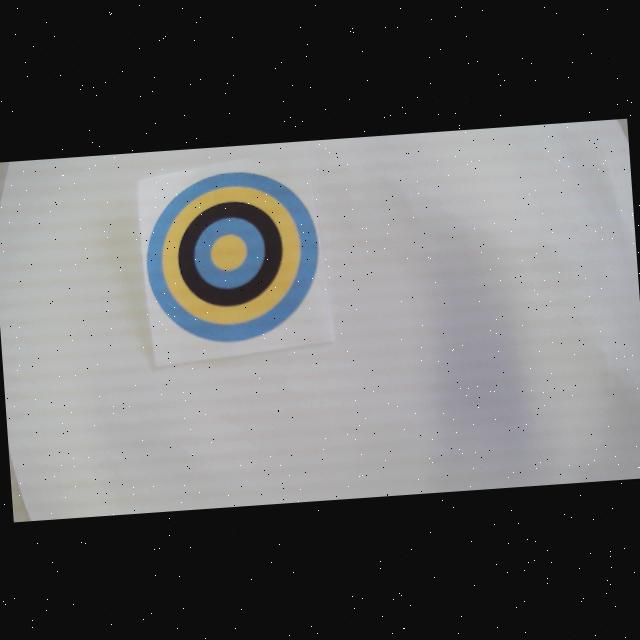COGNITIVE: (140, 165, 325, 349)
